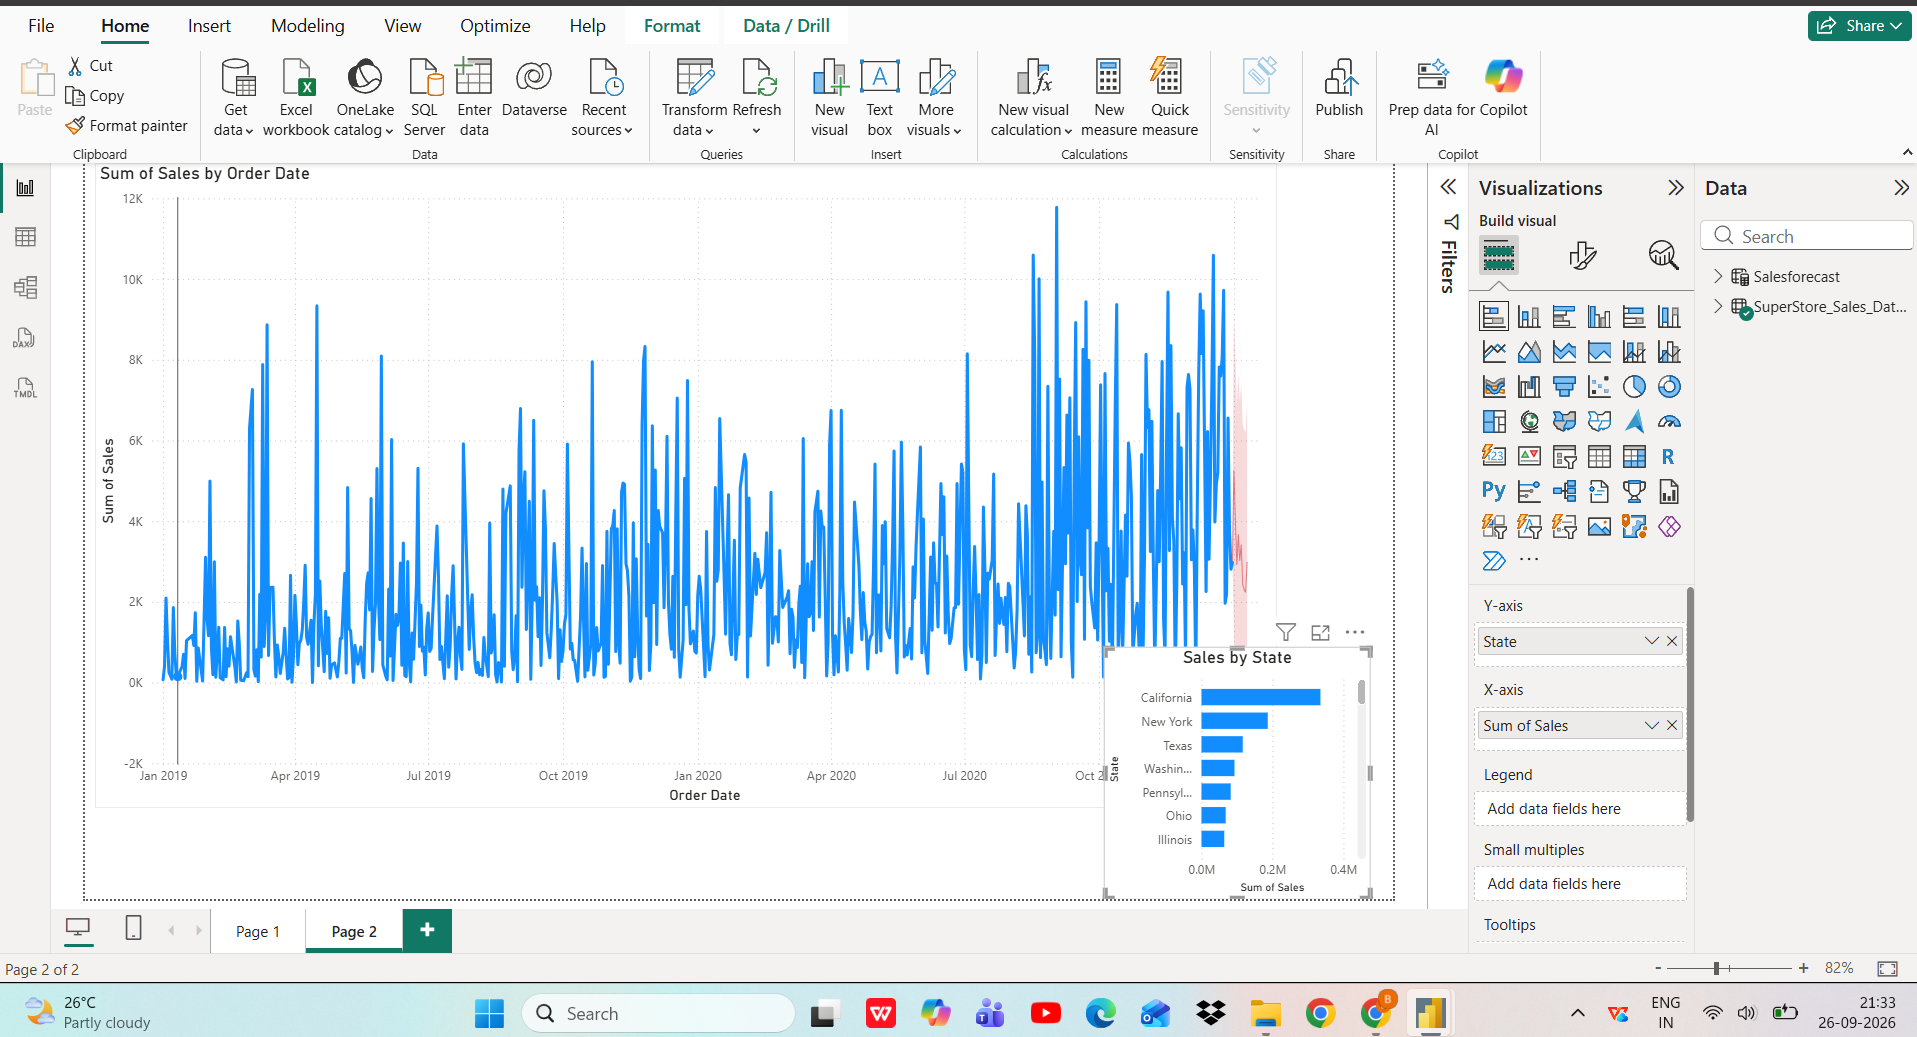

What the dashboard file says about the page in this screenshot:
{"tool":"powerbi","page":{"name":"Page 2","canvas":[1280,720],"ordinal":1},"visuals":[{"type":"lineChart","fields":{"Y":["Sum(SuperStore_Sales_Dataset.Sales)"],"Category":["SuperStore_Sales_Dataset.Order Date"]},"box":[10,0,1156.2,631.2],"z":0},{"type":"barChart","title":"Sales by State","fields":{"Category":["SuperStore_Sales_Dataset.State"],"Y":["Sum(SuperStore_Sales_Dataset.Sales)"]},"box":[970,421.7,261.7,246.7],"z":1000}]}

Visuals, with their boxes on the page's 1280x720 design canvas (x1, y1, x2, y2). These are canvas units, not pixel positions in the 1917x1037 screenshot, which may show the page scaled, cropped or inside an application window:
lineChart - Sum(SuperStore_Sales_Dataset.Sales) x SuperStore_Sales_Dataset.Order Date: [10,0,1166,631]
"Sales by State" barChart: [970,422,1232,668]
